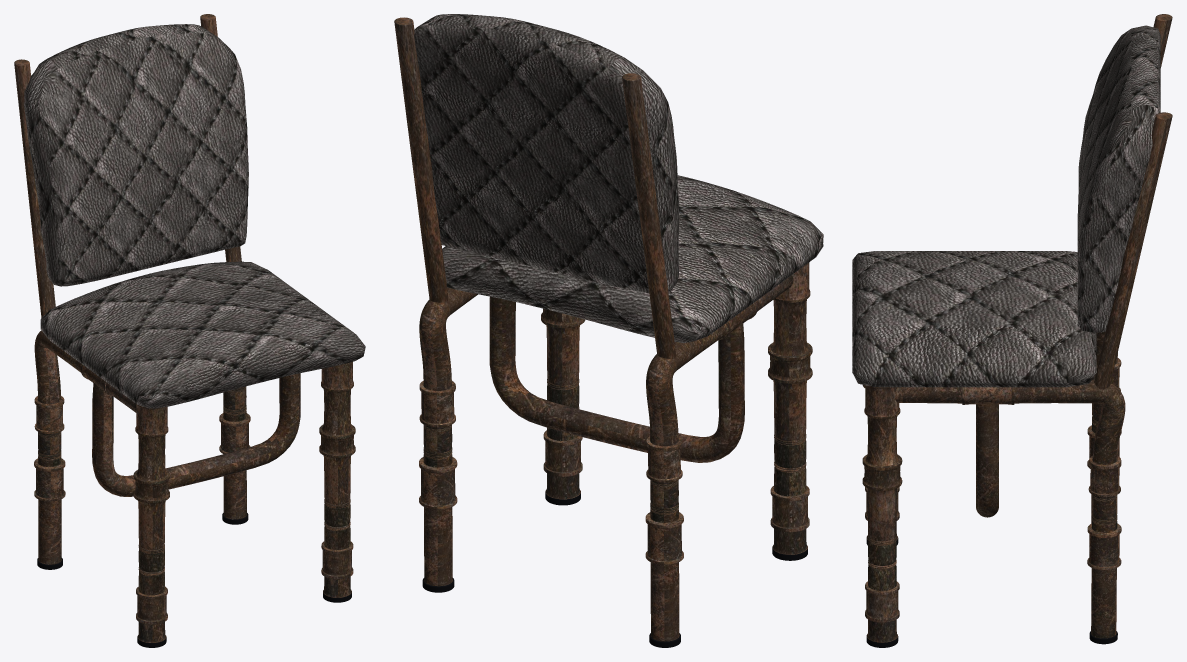
File: steampunkChairBetter.fbx
3 views of the same model, side by side, from view 1: azimuth 30°, elevation 25°; view 2: azimuth 150°, elevation 25°; view 3: azimuth 270°, elevation 25° (orthographic). The views are drawn at different scales.
Visible parts, largest first — view 1: pCube4; view 2: pCube4; view 3: pCube4.
Boxes of the visible parts, <box> form: pCube4: <box>14,14,365,647</box>; pCube4: <box>394,14,823,647</box>; pCube4: <box>852,14,1172,647</box>.
Bounding box in the file's own units: 1.78 × 3.79 × 2.03.
3 materials, 2 textured.
